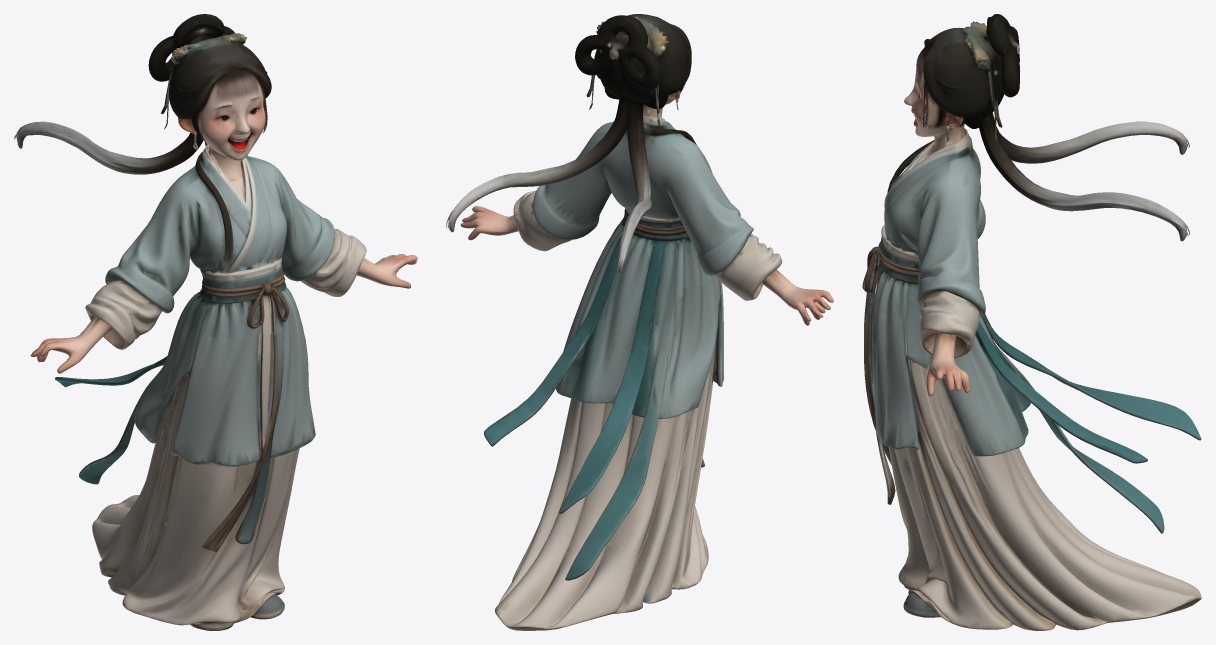
The model's file is xiangyun.glb.
The picture shows the model from 3 angles, left to right: view 1: azimuth 30°, elevation 25°; view 2: azimuth 150°, elevation 25°; view 3: azimuth 270°, elevation 25°; orthographic projection. The views are drawn at different scales.
Visible parts, largest first — view 1: node_0; view 2: node_0; view 3: node_0.
Part boxes in pixels (x1=…): node_0: x1=14, y1=14, x2=417, y2=630; node_0: x1=446, y1=14, x2=833, y2=630; node_0: x1=862, y1=14, x2=1201, y2=630.
Size of the model in its own units: 0.7514 by 1.07 by 0.5708.
1 material, 1 textured.
